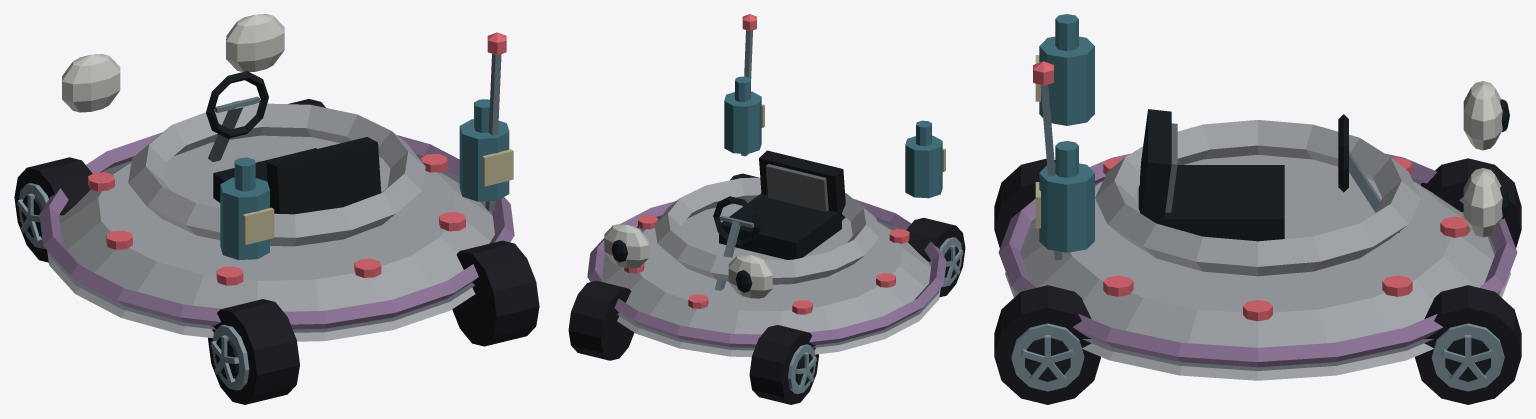
Rendered from kart.glb.
The picture shows the model from 3 angles, left to right: view 1: azimuth 30°, elevation 25°; view 2: azimuth 150°, elevation 25°; view 3: azimuth 270°, elevation 25°; orthographic projection. The views are drawn at different scales.
Parts seen in each view (by area): view 1: identity-saucer-saucer-double-rim, identity-saucer-driver-cockpit, identity-saucer-motif-bottles, wheel-rear-left, wheel-rear-right, identity-saucer-motif-eyes, wheel-front-left, identity-saucer-motif-antenna; view 2: identity-saucer-saucer-double-rim, identity-saucer-driver-cockpit, identity-saucer-motif-bottles, wheel-front-left, wheel-front-right, identity-saucer-motif-eyes, wheel-rear-left, identity-saucer-motif-antenna; view 3: identity-saucer-saucer-double-rim, identity-saucer-driver-cockpit, identity-saucer-motif-bottles, wheel-front-right, wheel-rear-right, identity-saucer-motif-eyes, wheel-front-left, wheel-rear-left, identity-saucer-motif-antenna.
Boxes of the visible parts, left/top/right/bottom form: identity-saucer-saucer-double-rim: left=39, top=103, right=514, bottom=341; identity-saucer-driver-cockpit: left=206, top=71, right=381, bottom=214; identity-saucer-motif-bottles: left=220, top=99, right=513, bottom=260; wheel-rear-left: left=208, top=299, right=299, bottom=404; wheel-rear-right: left=452, top=240, right=539, bottom=346; identity-saucer-motif-eyes: left=62, top=14, right=284, bottom=112; wheel-front-left: left=14, top=157, right=92, bottom=262; identity-saucer-motif-antenna: left=485, top=32, right=506, bottom=210; identity-saucer-saucer-double-rim: left=587, top=177, right=946, bottom=357; identity-saucer-driver-cockpit: left=713, top=150, right=845, bottom=290; identity-saucer-motif-bottles: left=724, top=76, right=945, bottom=198; wheel-front-left: left=749, top=325, right=818, bottom=404; wheel-front-right: left=568, top=280, right=634, bottom=360; identity-saucer-motif-eyes: left=604, top=224, right=772, bottom=298; wheel-rear-left: left=906, top=218, right=965, bottom=296; identity-saucer-motif-antenna: left=741, top=14, right=756, bottom=156; identity-saucer-saucer-double-rim: left=998, top=120, right=1517, bottom=380; identity-saucer-driver-cockpit: left=1138, top=109, right=1399, bottom=241; identity-saucer-motif-bottles: left=1035, top=14, right=1094, bottom=252; wheel-front-right: left=1415, top=285, right=1521, bottom=404; wheel-rear-right: left=994, top=285, right=1100, bottom=404; identity-saucer-motif-eyes: left=1463, top=81, right=1509, bottom=237; wheel-front-left: left=1421, top=158, right=1521, bottom=247; wheel-rear-left: left=994, top=158, right=1055, bottom=247; identity-saucer-motif-antenna: left=1033, top=61, right=1062, bottom=260.
Bounding box in the file's own units: 2.42 × 1.72 × 2.46.
